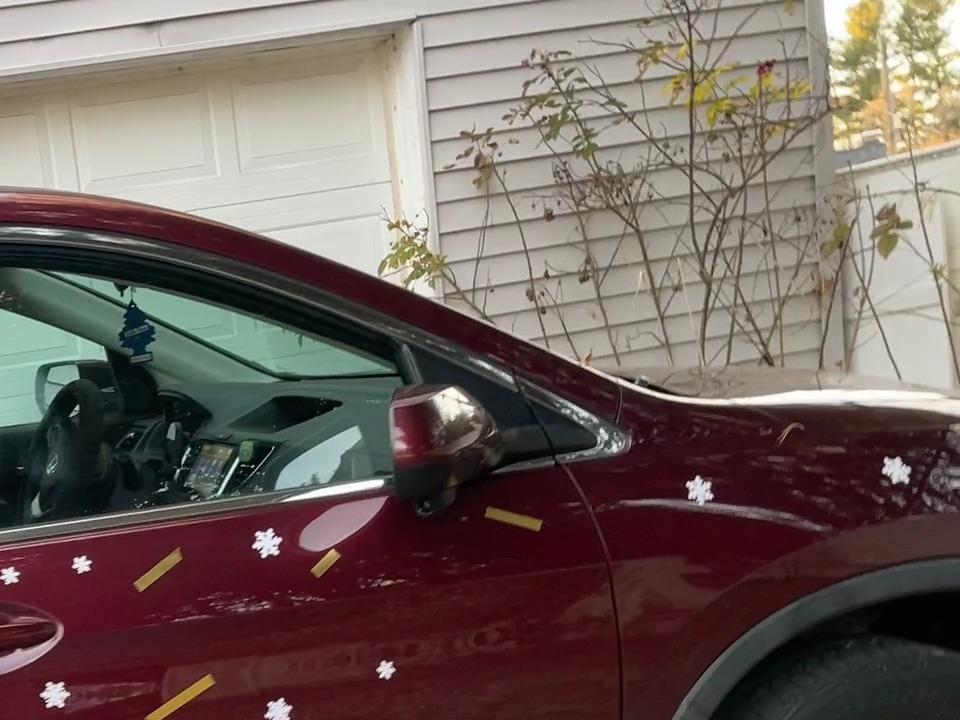dent: (250, 526, 285, 562), (878, 454, 914, 488), (38, 679, 74, 712), (684, 472, 716, 507), (262, 694, 296, 720), (374, 656, 399, 684), (70, 553, 96, 577), (0, 563, 23, 589)
scratch: (144, 667, 217, 720), (132, 539, 188, 595), (481, 496, 553, 534), (309, 546, 347, 579)
